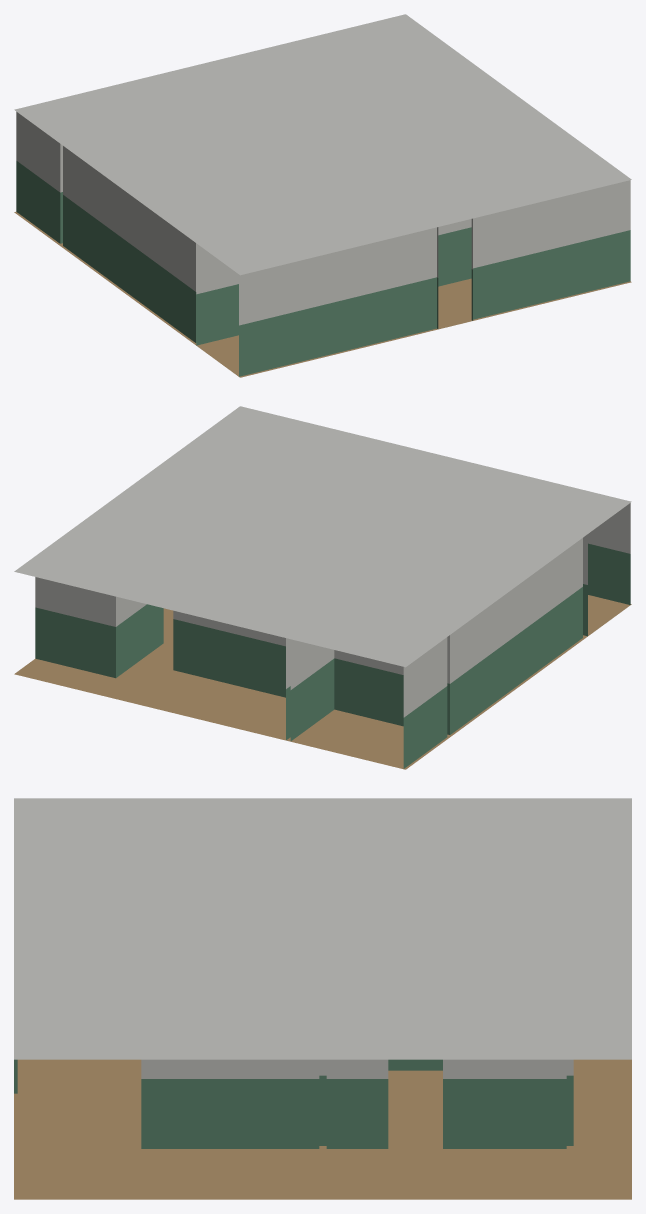
File: chunk_2_2.glb
3 renders of one model, top to bottom at view 1: azimuth 30°, elevation 25°; view 2: azimuth 150°, elevation 25°; view 3: azimuth 270°, elevation 25°, orthographic. The views are drawn at different scales.
Visible parts, largest first — view 1: chunk_2_2; view 2: chunk_2_2; view 3: chunk_2_2.
Boxes of the visible parts, x1=… form: chunk_2_2: x1=14, y1=14, x2=631, y2=377; chunk_2_2: x1=14, y1=406, x2=631, y2=769; chunk_2_2: x1=14, y1=798, x2=631, y2=1199.
Bounding box in the file's own units: 12 × 3 × 12.
